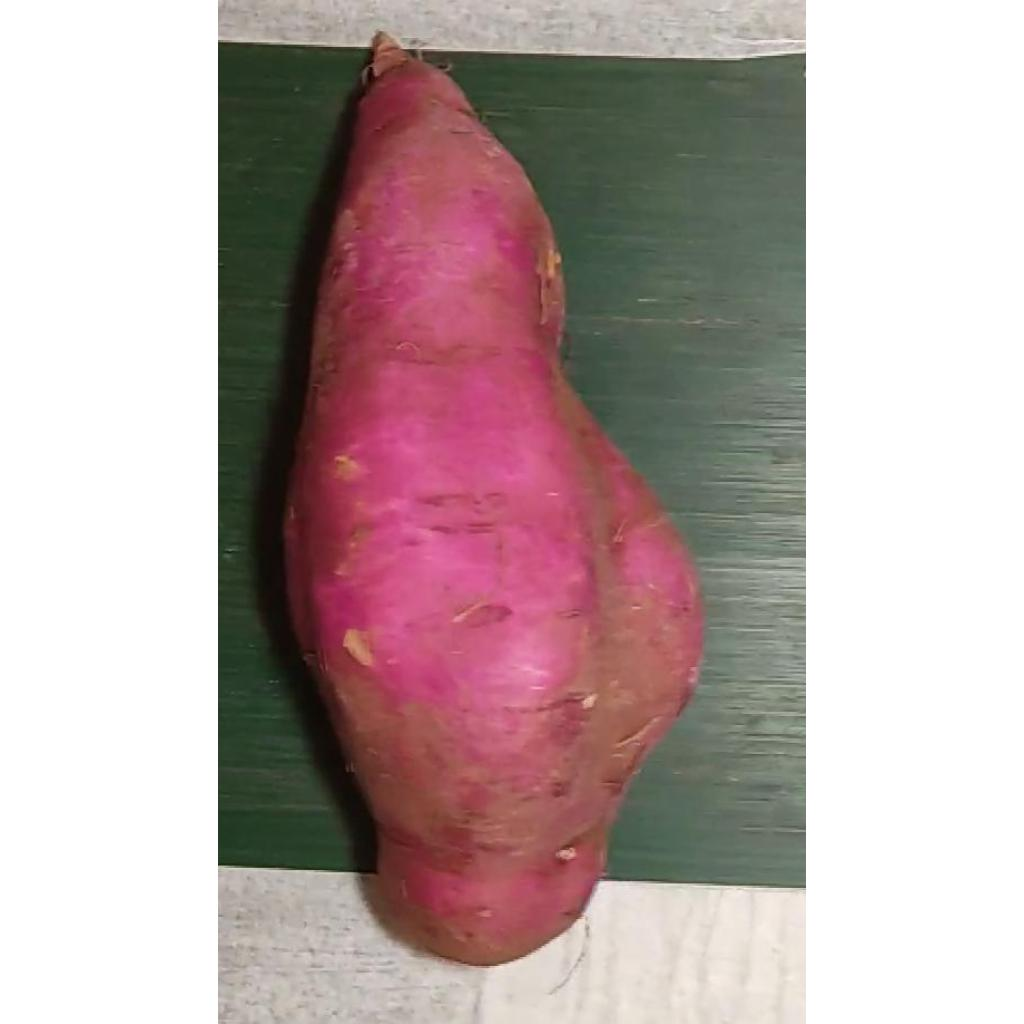Sweet Potato: (285, 35, 707, 969)
